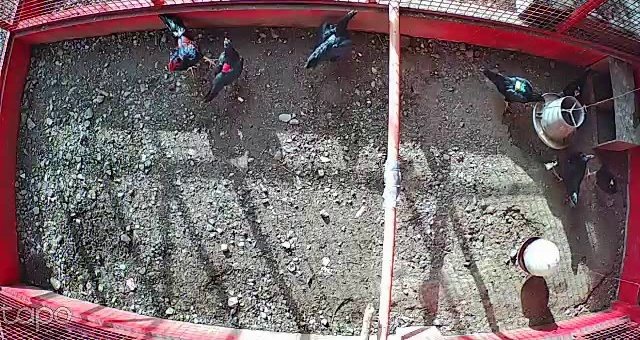Chicken: (470, 65, 551, 118), (298, 9, 365, 73), (204, 39, 254, 106), (553, 65, 599, 106)
Rooster: (155, 11, 220, 78)
Saddle_Color_Red: (223, 63, 232, 73)
Saddle_Color_YellowGreen: (513, 77, 530, 96)
